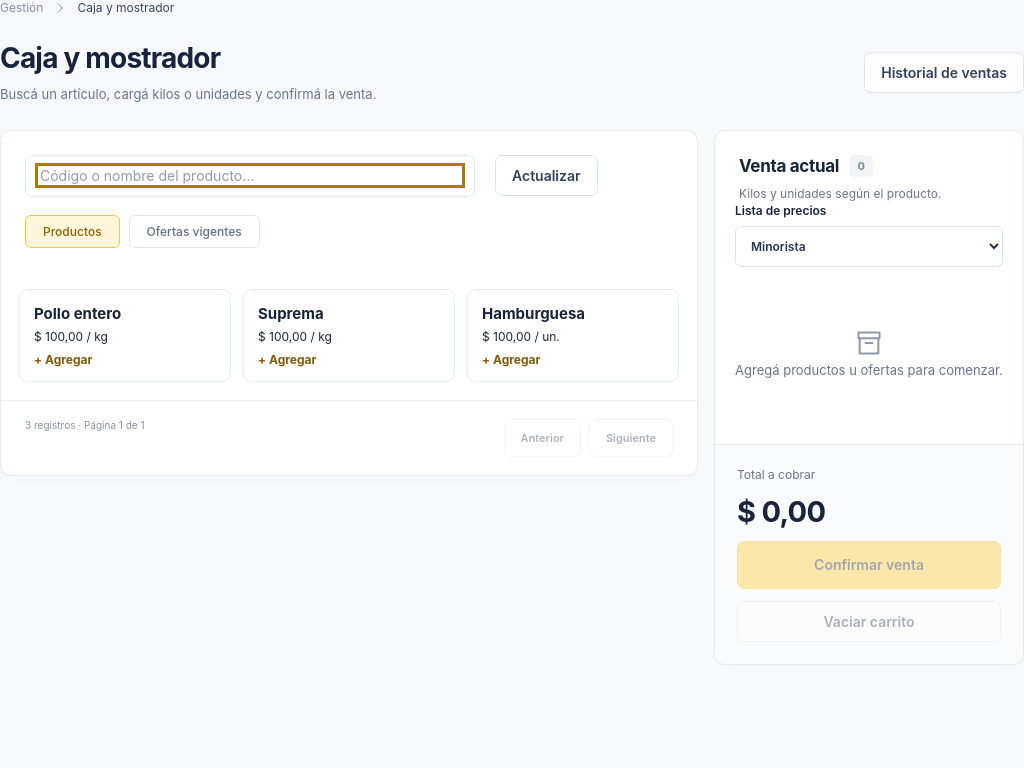
Test: Caja integrada › conserva el carrito cuando el backend rechaza la venta
Click the button "Pollo entero $ 100,00 / kg + Agregar" at (125, 335), box [19,289,231,382]
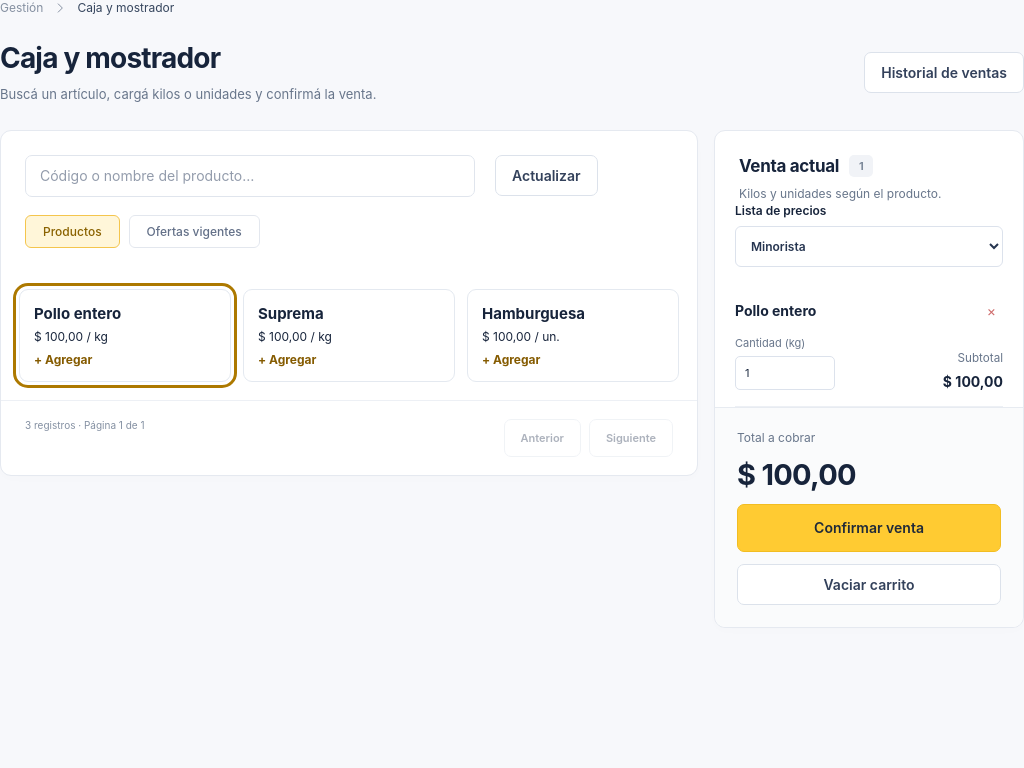
Expected: the button "Confirmar venta" is enabled
Click the button "Confirmar venta" at (869, 528), box [737,504,1001,552]
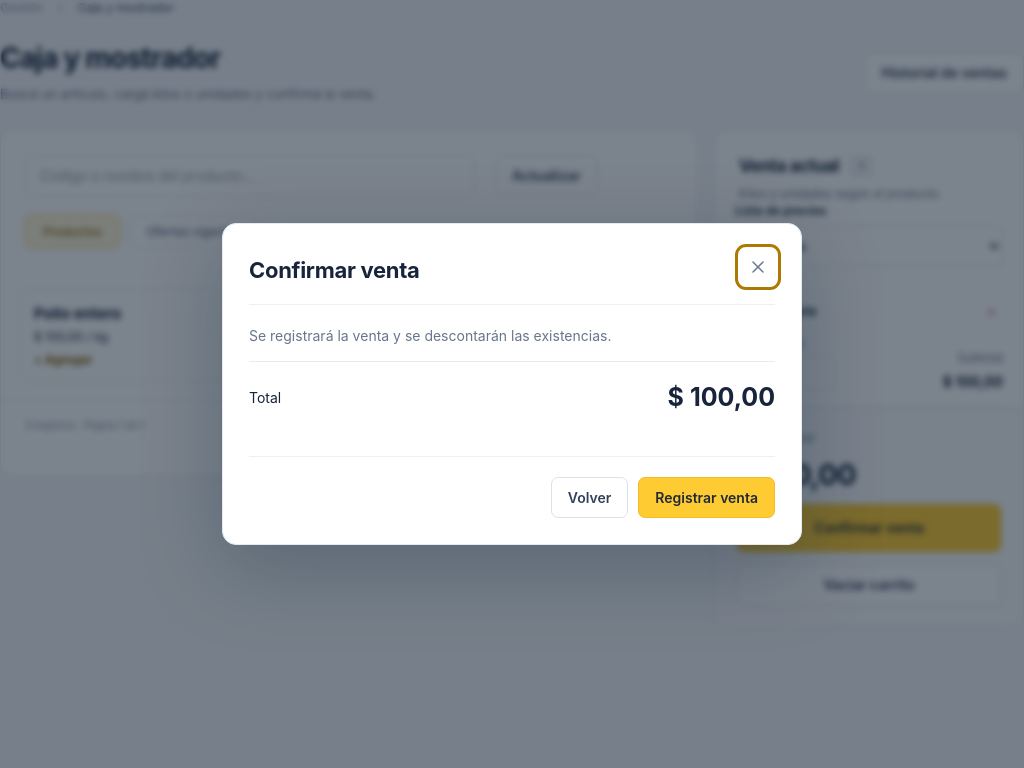
Click the button "Registrar venta" at (707, 498), box [638,477,775,518]
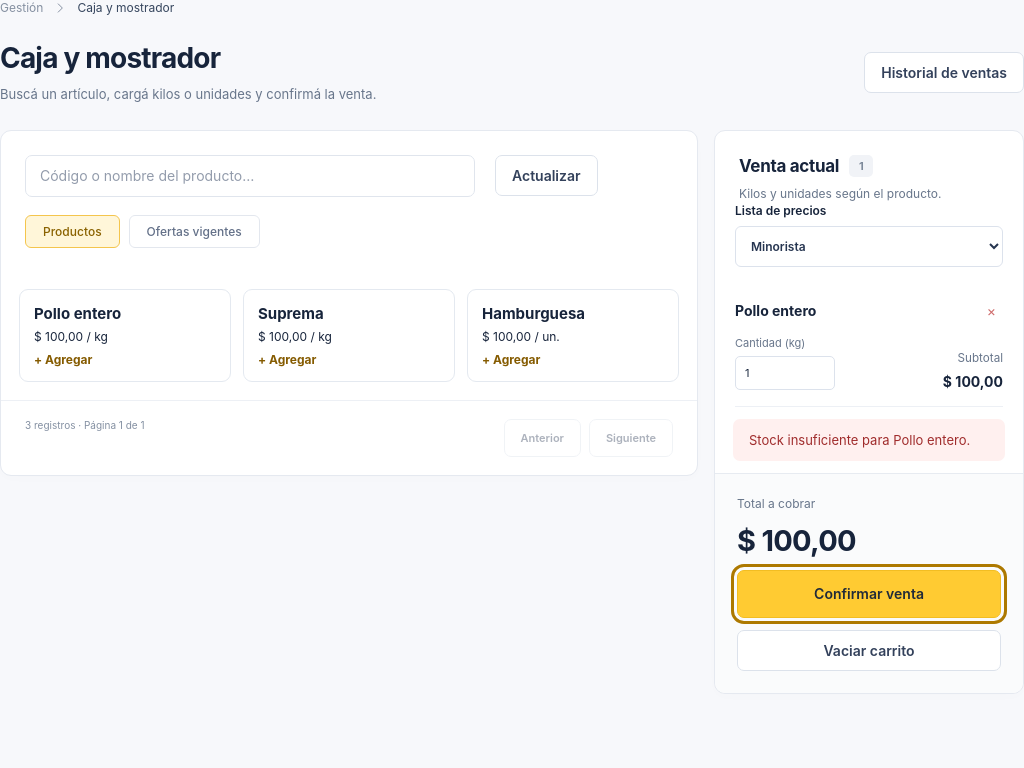
Expected: the field named "Cantidad de Pollo entero" is shown, [735,356,835,390]
Expected: the text "Stock insuficiente para Pollo entero." is shown, [749,432,989,448]
